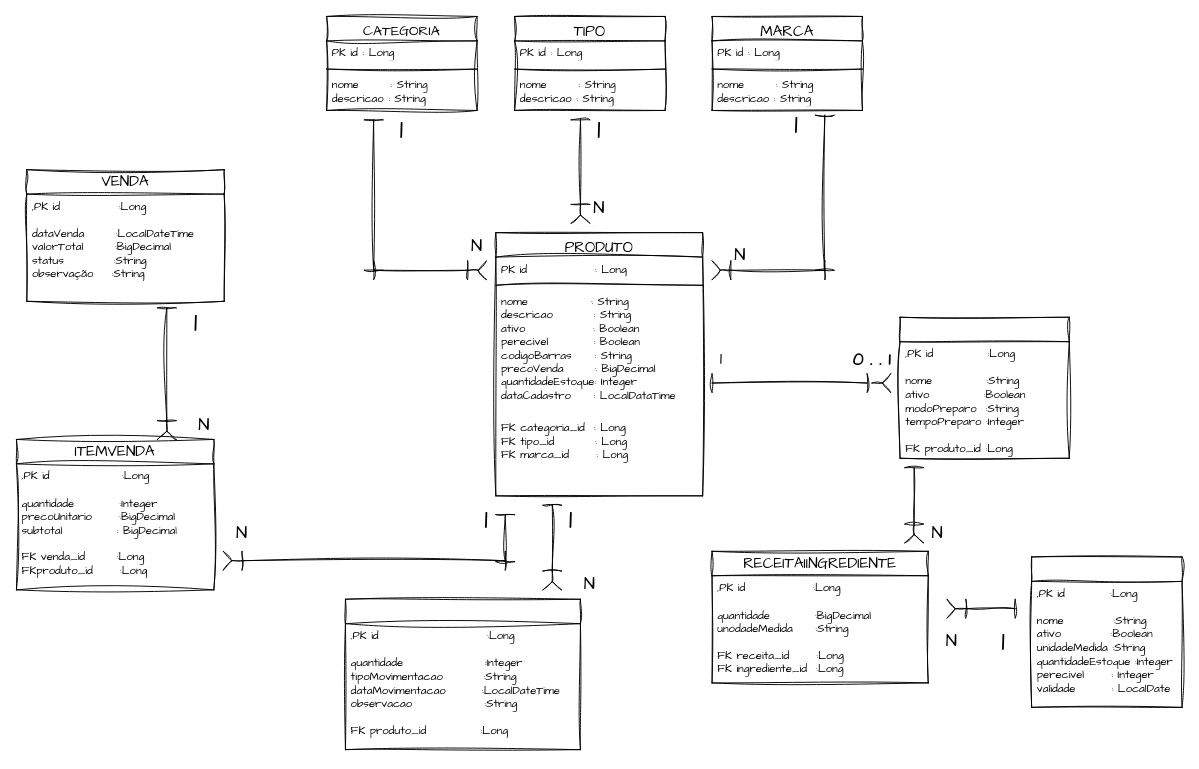
The diagram is 1199 pixels wide and 769 high, and some of its shapes have lost their labels. The shapes that lost their labels are listed below. From the top down, each one's box as (x1, y1, x2, y2) in pixels, then its label:
(899, 316, 1069, 458): RECEITA
(1031, 556, 1182, 707): INGREDIENTE
(345, 598, 580, 750): MOVIMENTACAOESTOQUE
